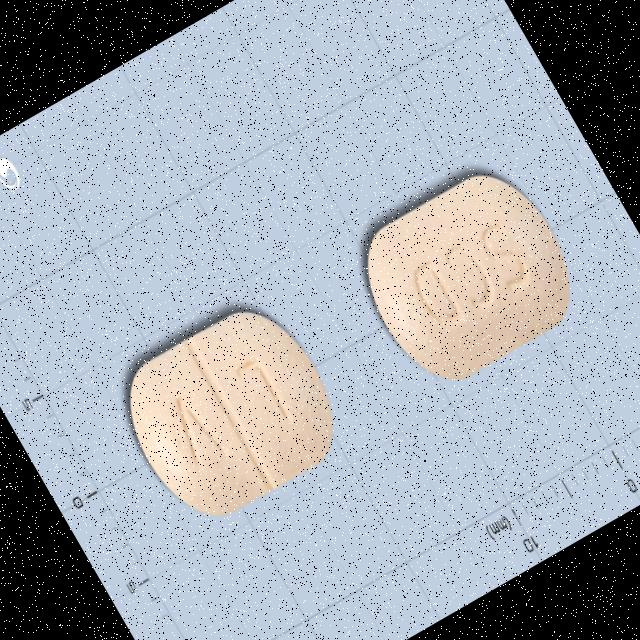Levostar: (342, 154, 594, 402), (105, 290, 358, 536)
